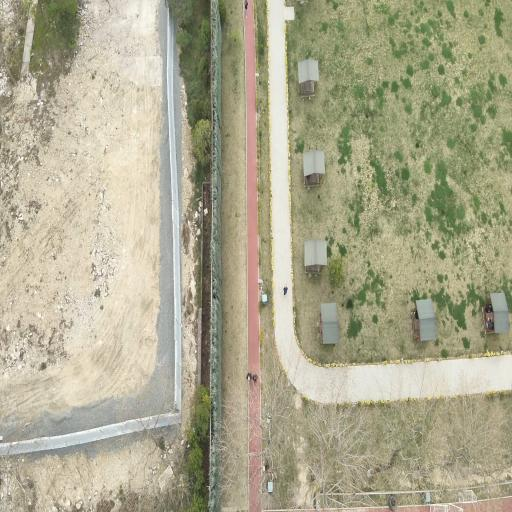person: (486, 320, 493, 330), (245, 0, 248, 18), (247, 373, 252, 381), (253, 374, 257, 383), (486, 304, 490, 313), (284, 285, 287, 295)
